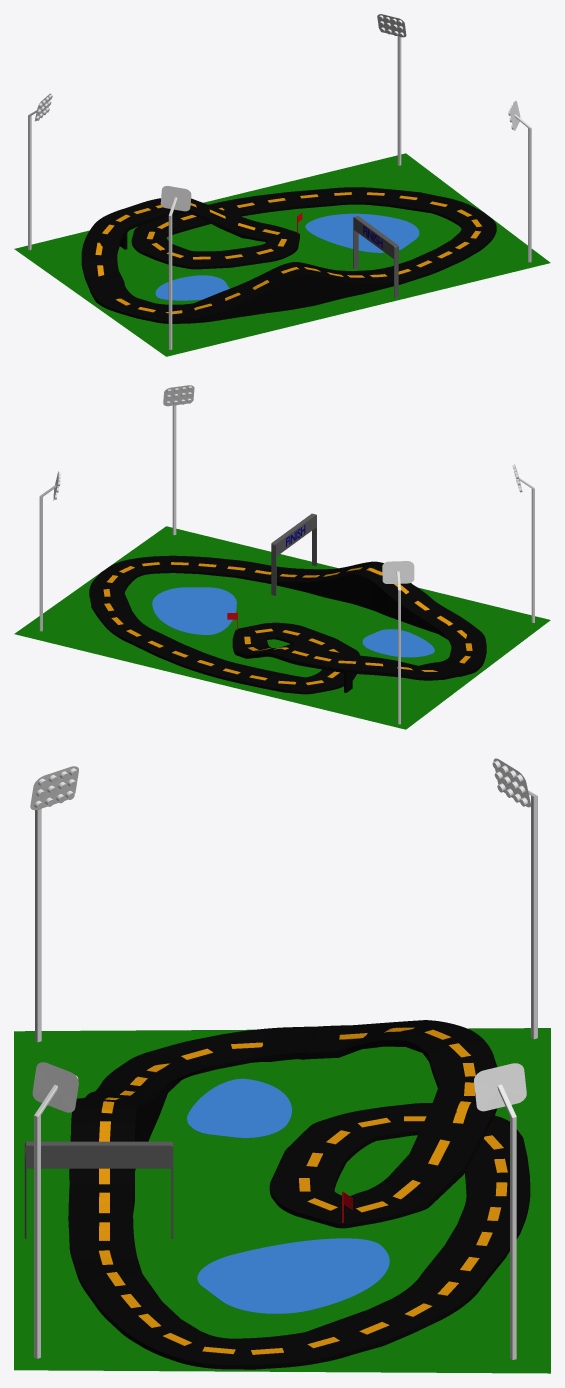
The model's file is Track#1(2).fbx.
3 renders of one model, top to bottom at view 1: azimuth 30°, elevation 25°; view 2: azimuth 150°, elevation 25°; view 3: azimuth 270°, elevation 25°, orthographic. The views are drawn at different scales.
Visible parts, largest first — view 1: Plane, Cube, Cube.046, Cube.023, Cube.053, Cube.002, Cube.052, Cube.034, Cube.054; view 2: Plane, Cube, Cube.046, Cube.023, Cube.002, Cube.054, Cube.034, Cube.052, Cube.053; view 3: Plane, Cube, Cube.046, Cube.023, Cube.002, Cube.052, Cube.034, Cube.053, Cube.054.
Part boxes in pixels (x1=…): Plane: x1=14, y1=153, x2=550, y2=356; Cube: x1=81, y1=187, x2=496, y2=323; Cube.046: x1=305, y1=213, x2=419, y2=252; Cube.023: x1=155, y1=275, x2=229, y2=300; Cube.053: x1=160, y1=186, x2=191, y2=349; Cube.002: x1=353, y1=216, x2=398, y2=298; Cube.052: x1=377, y1=14, x2=406, y2=165; Cube.034: x1=510, y1=100, x2=531, y2=262; Cube.054: x1=28, y1=93, x2=51, y2=250; Plane: x1=14, y1=526, x2=550, y2=729; Cube: x1=89, y1=555, x2=486, y2=694; Cube.046: x1=152, y1=587, x2=236, y2=634; Cube.023: x1=362, y1=629, x2=434, y2=657; Cube.002: x1=271, y1=513, x2=316, y2=595; Cube.054: x1=382, y1=561, x2=414, y2=724; Cube.034: x1=163, y1=385, x2=194, y2=535; Cube.052: x1=39, y1=471, x2=58, y2=631; Cube.053: x1=514, y1=464, x2=534, y2=622; Plane: x1=14, y1=1028, x2=550, y2=1373; Cube: x1=68, y1=1020, x2=530, y2=1369; Cube.046: x1=197, y1=1238, x2=389, y2=1313; Cube.023: x1=187, y1=1078, x2=291, y2=1138; Cube.002: x1=24, y1=1141, x2=173, y2=1238; Cube.052: x1=474, y1=1063, x2=526, y2=1359; Cube.034: x1=32, y1=1062, x2=78, y2=1358; Cube.053: x1=30, y1=766, x2=78, y2=1042; Cube.054: x1=493, y1=758, x2=537, y2=1039.
Bounding box in the file's own units: 2544 × 1010 × 1671.
